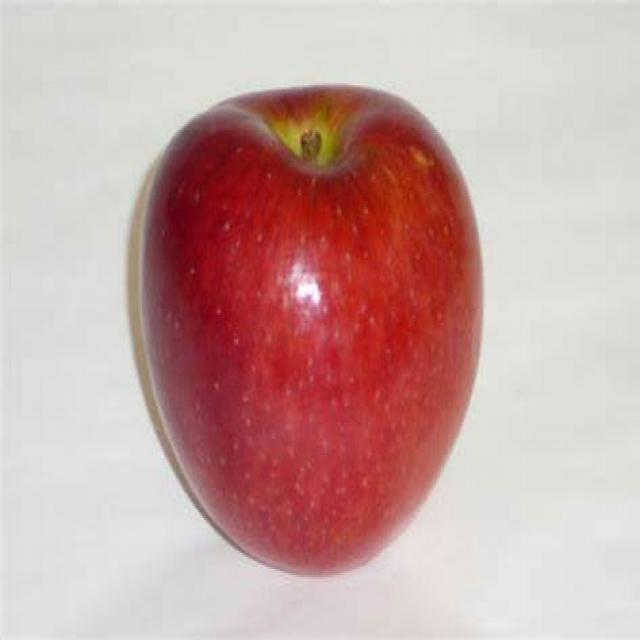Apple: (118, 72, 492, 585)
